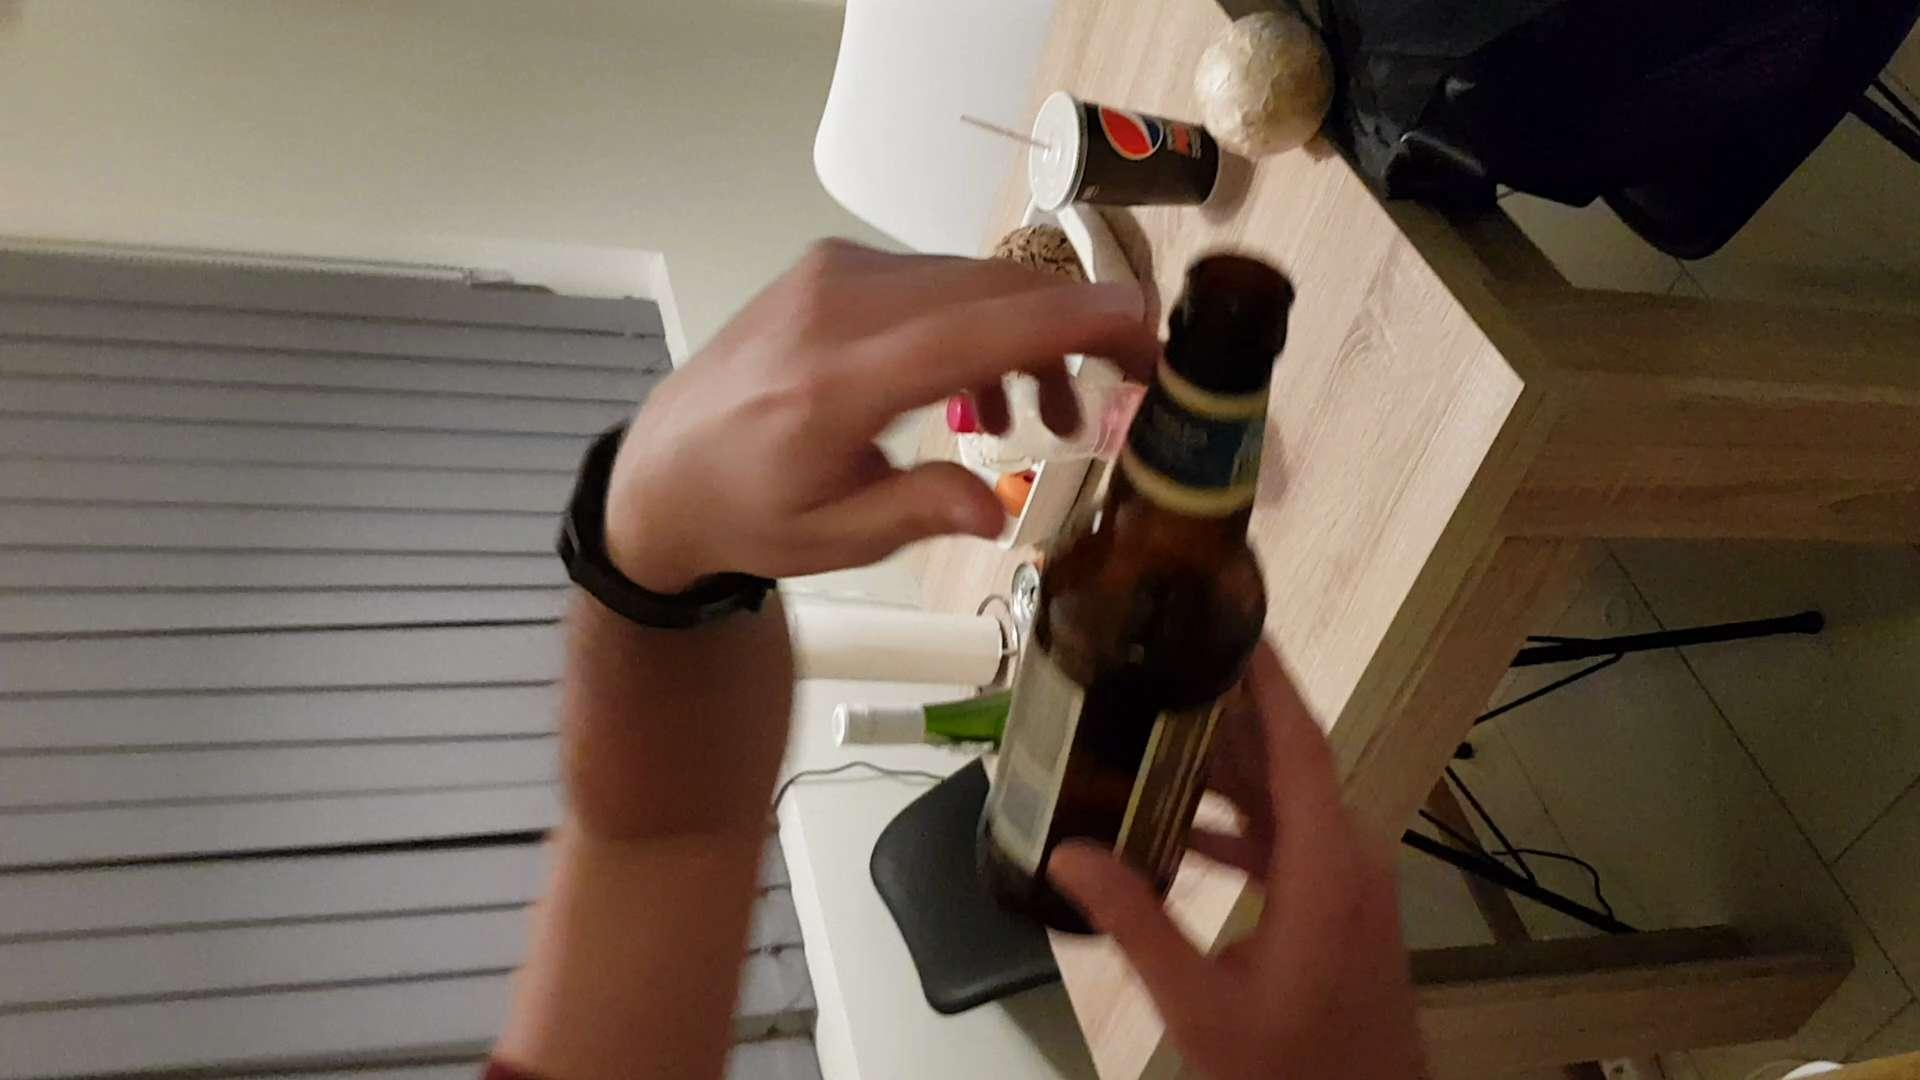Bottle: (931, 251, 1305, 911)
